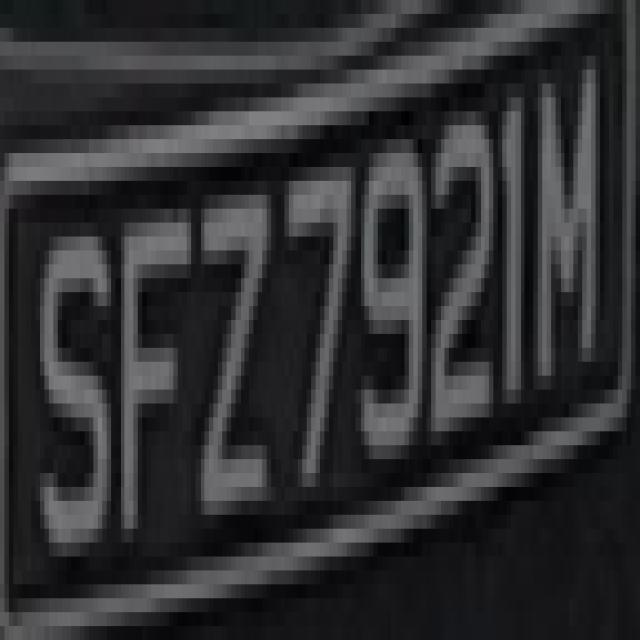1: (489, 14, 529, 431)
2: (414, 84, 494, 473)
7: (262, 139, 356, 515)
9: (351, 125, 431, 501)
F: (102, 181, 196, 584)
M: (529, 14, 604, 417)
S: (31, 167, 120, 612)
Z: (187, 139, 271, 571)
